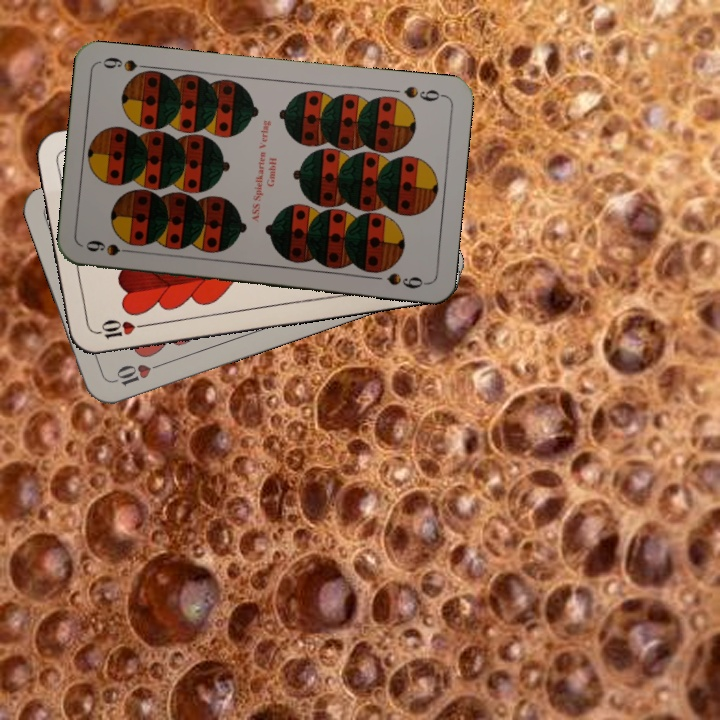H10: (108, 359, 165, 389), (90, 316, 149, 342)
S9: (81, 236, 141, 259), (400, 82, 447, 104)
